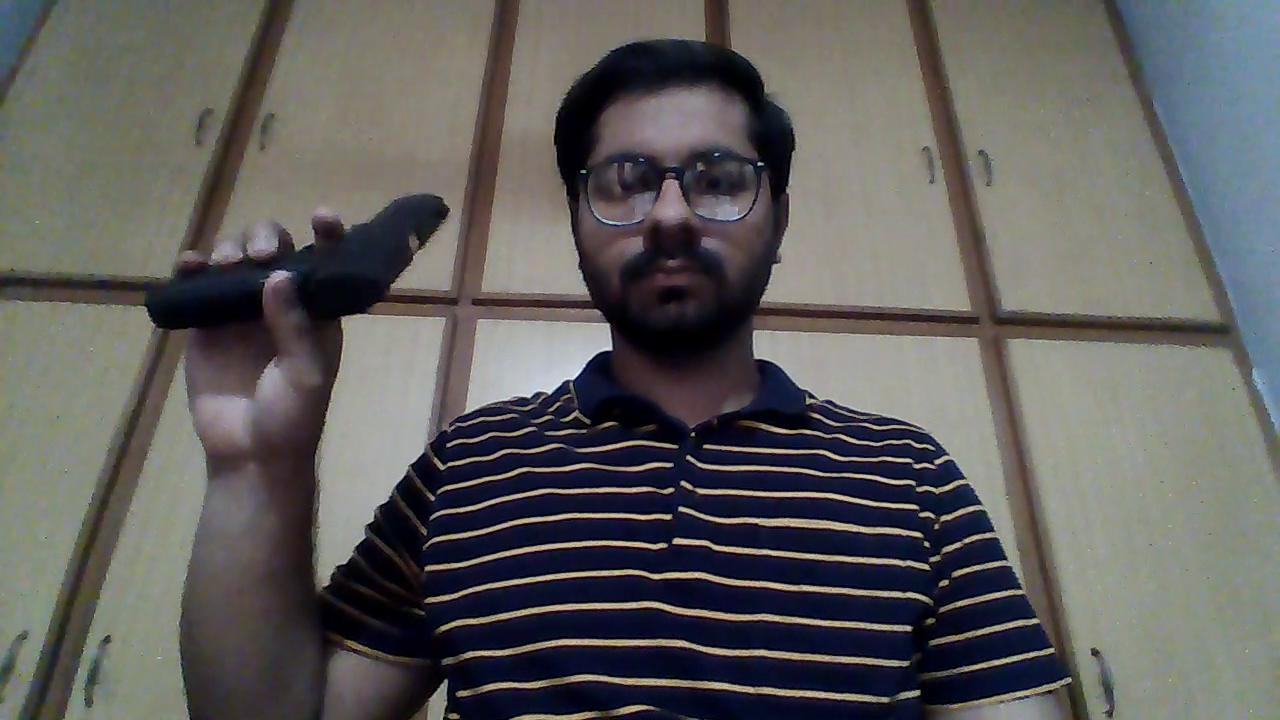criminal: (138, 38, 1078, 720)
weapon: (140, 190, 453, 326)
